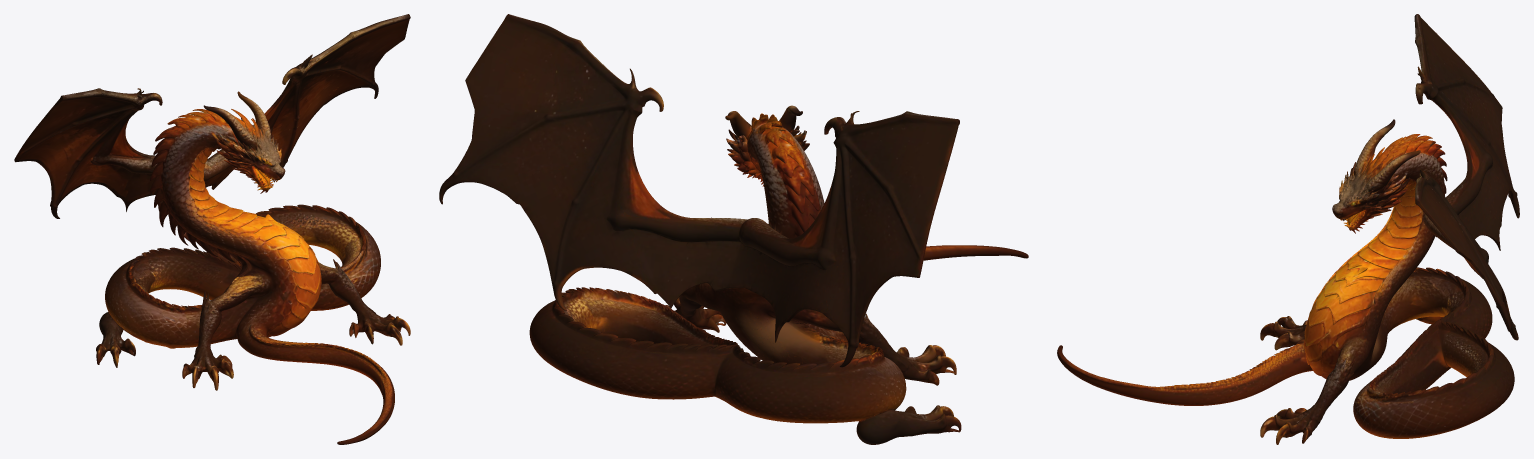
File: fei-fei.glb
The picture shows the model from 3 angles, left to right: view 1: azimuth 30°, elevation 25°; view 2: azimuth 150°, elevation 25°; view 3: azimuth 270°, elevation 25°; orthographic projection. The views are drawn at different scales.
Visible parts, largest first — view 1: node_0; view 2: node_0; view 3: node_0.
Boxes of the visible parts, box(x1,y1,x2,y2) form: node_0: box(14, 14, 410, 444); node_0: box(439, 14, 1028, 444); node_0: box(1057, 14, 1519, 444).
Bounding box in the file's own units: 0.8691 × 0.5885 × 0.8719.
1 material, 1 textured.
